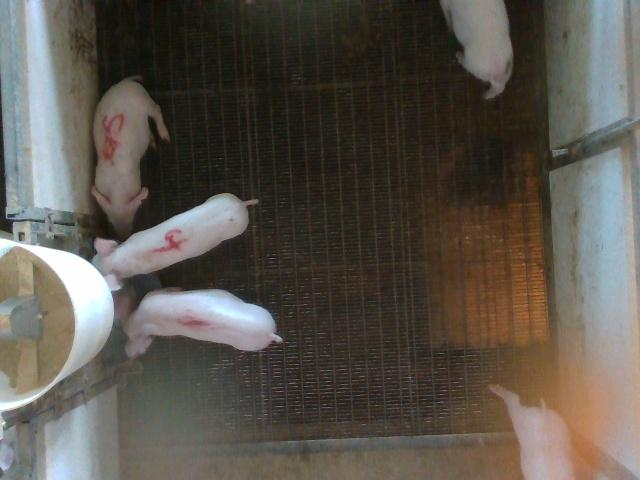pig-1: (116, 289, 282, 358)
pig-4: (92, 194, 255, 289)
pig-5: (91, 76, 170, 239)
